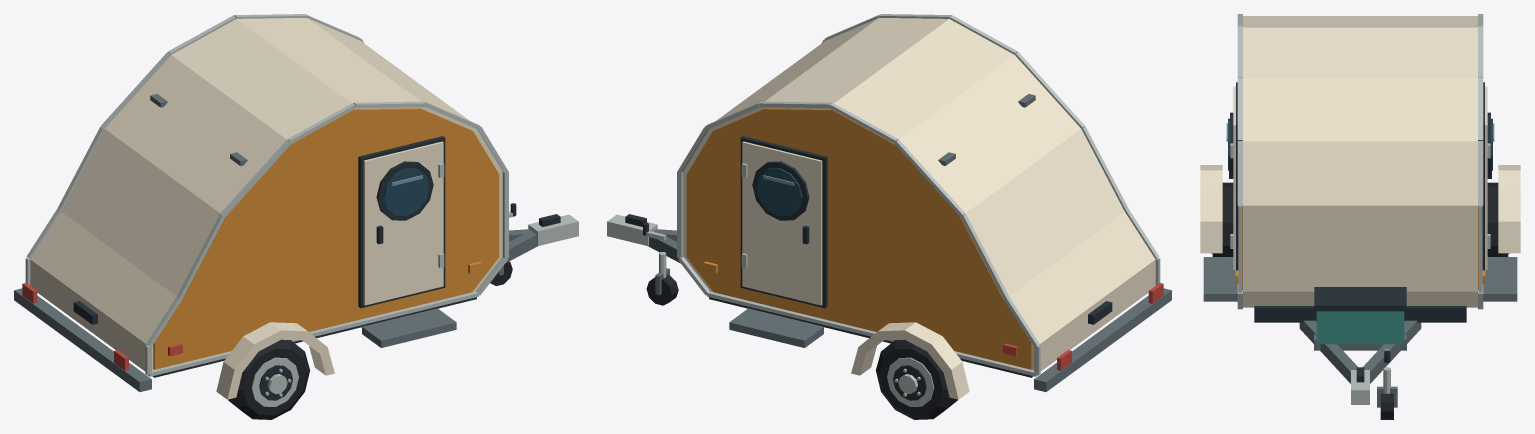
File: 01_acorn_teardrop.glb
3 views of the same model, side by side, from view 1: azimuth 30°, elevation 25°; view 2: azimuth 150°, elevation 25°; view 3: azimuth 270°, elevation 25° (orthographic).
Visible parts, largest first — view 1: Cream_rounded_shell, Amber_side_1, Compact_door_1_panel, Ivory_fender_1, Road_wheel_1_tire, Rear_bumper, Door_step_1, Compact_door_1_seal, Edge_trim_1_0, Porthole_glass_1, Porthole_frame_1, Coupler_housing (+9 smaller); view 2: Cream_rounded_shell, Amber_side_-1, Compact_door_-1_panel, Ivory_fender_-1, Road_wheel_-1_tire, Rear_bumper, Door_step_-1, Compact_door_-1_seal, Edge_trim_-1_0, Porthole_glass_-1, Porthole_frame_-1, Road_wheel_-1_rim (+9 smaller); view 3: Cream_rounded_shell, Tongue_luggage_box, Tongue_box_lid, Chassis, Ivory_fender_-1, Ivory_fender_1, Door_step_-1, Door_step_1, Drawbar_1, Drawbar_-1, Road_wheel_-1_tire, Road_wheel_1_tire (+15 smaller).
Part boxes in pixels (box(x1,y1,x2,y2)): Cream_rounded_shell: box(30, 18, 502, 371); Amber_side_1: box(153, 108, 499, 369); Compact_door_1_panel: box(363, 141, 443, 305); Ivory_fender_1: box(216, 322, 334, 399); Road_wheel_1_tire: box(228, 339, 309, 419); Rear_bumper: box(14, 288, 151, 391); Door_step_1: box(362, 308, 456, 347); Compact_door_1_seal: box(358, 136, 445, 308); Edge_trim_1_0: box(148, 291, 478, 376); Porthole_glass_1: box(383, 168, 429, 215); Porthole_frame_1: box(376, 161, 433, 220); Coupler_housing: box(528, 214, 578, 245); Cream_rounded_shell: box(683, 18, 1155, 371); Amber_side_-1: box(686, 108, 1032, 369); Compact_door_-1_panel: box(742, 141, 822, 305); Ivory_fender_-1: box(851, 322, 969, 399); Road_wheel_-1_tire: box(876, 339, 957, 419); Rear_bumper: box(1034, 288, 1171, 391); Door_step_-1: box(729, 308, 823, 347); Compact_door_-1_seal: box(740, 136, 827, 308); Edge_trim_-1_0: box(707, 291, 1037, 376); Porthole_glass_-1: box(756, 168, 802, 215); Porthole_frame_-1: box(752, 161, 809, 220); Road_wheel_-1_rim: box(887, 357, 934, 406); Cream_rounded_shell: box(1243, 16, 1477, 307); Tongue_luggage_box: box(1316, 311, 1404, 344); Tongue_box_lid: box(1314, 287, 1406, 311); Chassis: box(1254, 306, 1466, 322); Ivory_fender_-1: box(1498, 165, 1520, 253); Ivory_fender_1: box(1200, 165, 1222, 253); Door_step_-1: box(1483, 257, 1517, 301); Door_step_1: box(1203, 257, 1237, 301); Drawbar_1: box(1299, 320, 1357, 383); Drawbar_-1: box(1363, 320, 1421, 383); Road_wheel_-1_tire: box(1487, 182, 1508, 256); Road_wheel_1_tire: box(1212, 182, 1233, 256).
Size of the model in its own units: 3.91 by 2.13 by 2.16.
